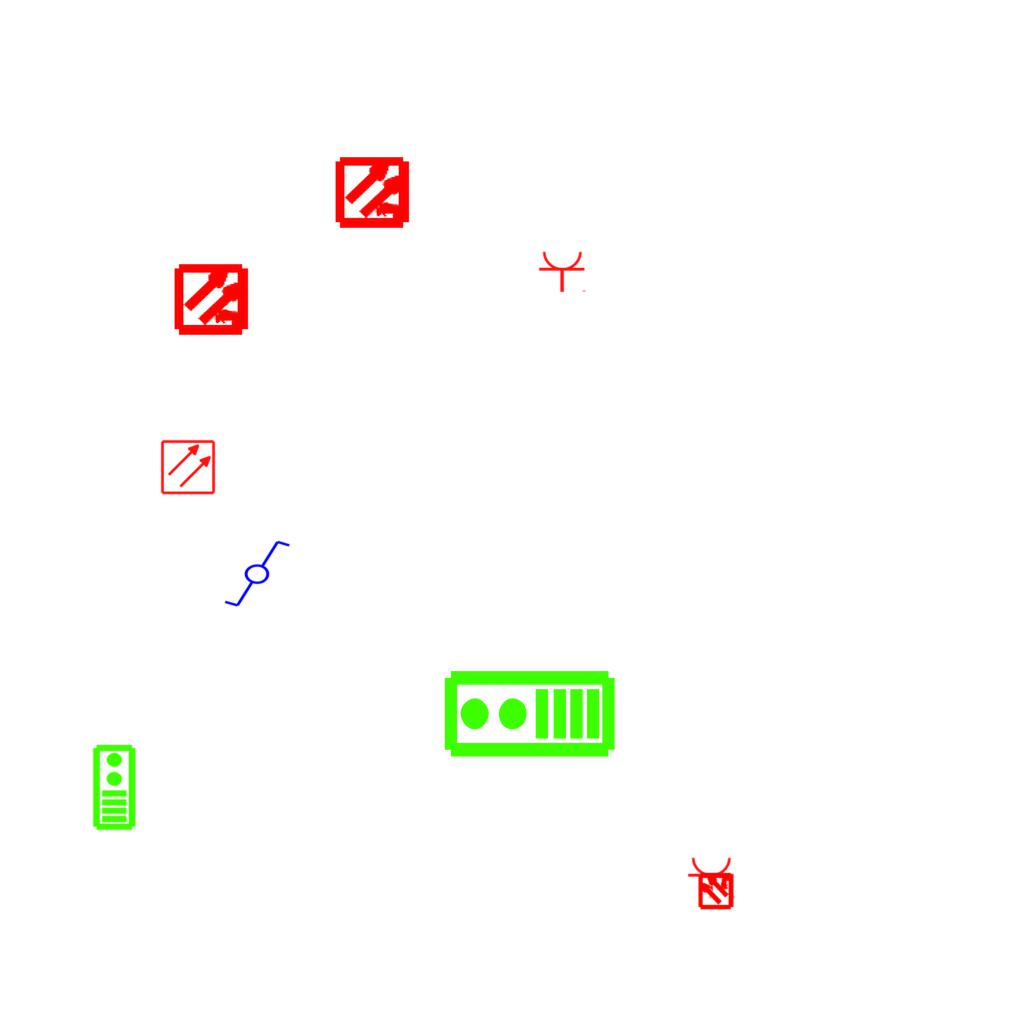Gegensprechanlage_mit_Video: (441, 668, 617, 763), (90, 743, 137, 831)
OT_Multisensormelder_(Kombination_RMO_WMD): (318, 136, 431, 249), (157, 243, 270, 356), (688, 862, 744, 918)
RMO_Rauchmelder_optischer: (160, 439, 216, 495)
Schukosteckdose_einfach: (687, 856, 737, 899), (538, 250, 588, 293)
Wechselschalter: (214, 537, 292, 609)
